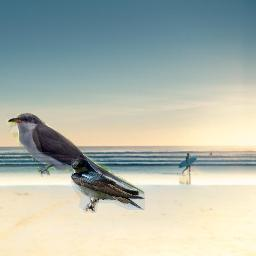Cuckoo: (6, 113, 144, 196)
Swallow: (71, 159, 145, 213)
